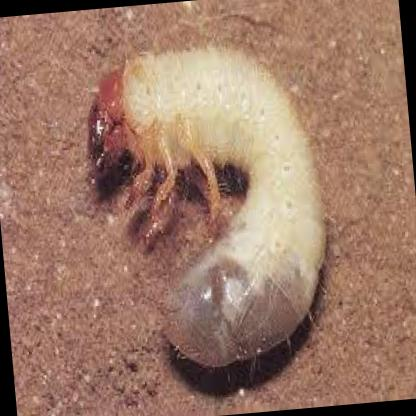root grubs: (88, 46, 323, 368)
